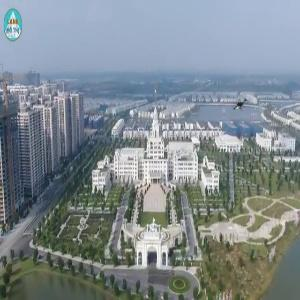drone: (222, 85, 271, 134)
